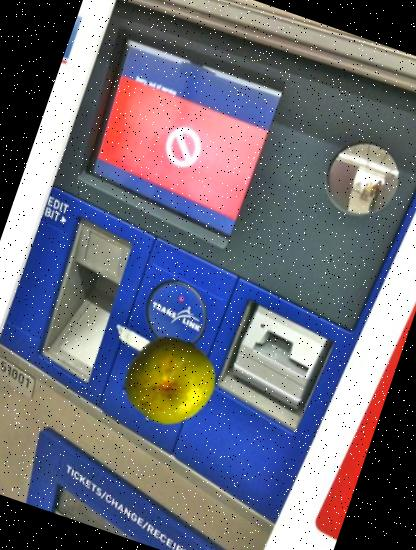Pomelo: (113, 325, 226, 437)
